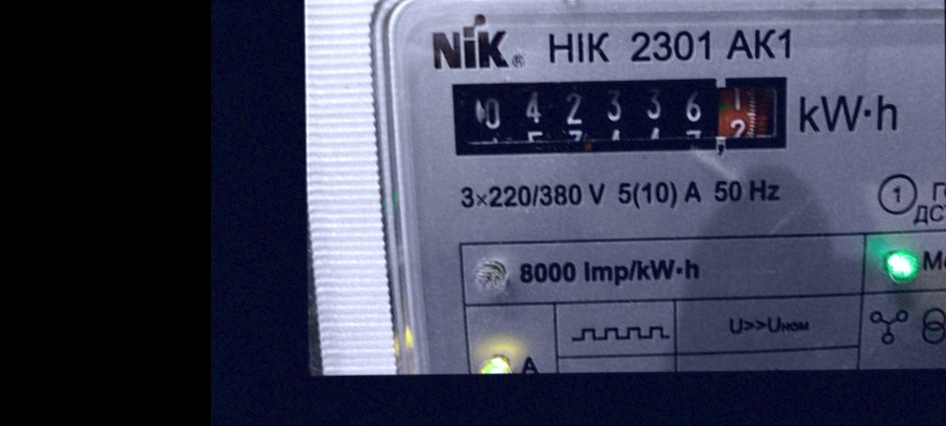0: (484, 97, 504, 133)
1: (732, 86, 745, 115)
2: (565, 92, 585, 129), (729, 119, 748, 141)
3: (644, 87, 664, 124), (606, 88, 625, 126)
4: (525, 90, 544, 127)
6: (683, 90, 705, 125)
screen: (446, 69, 799, 166)
